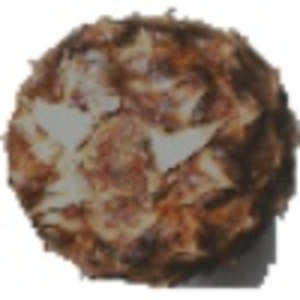abacaxi: (2, 9, 292, 283)
